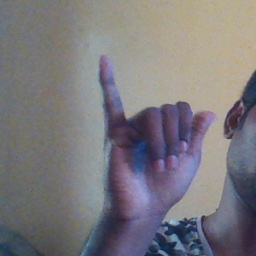J: (93, 53, 221, 205)
